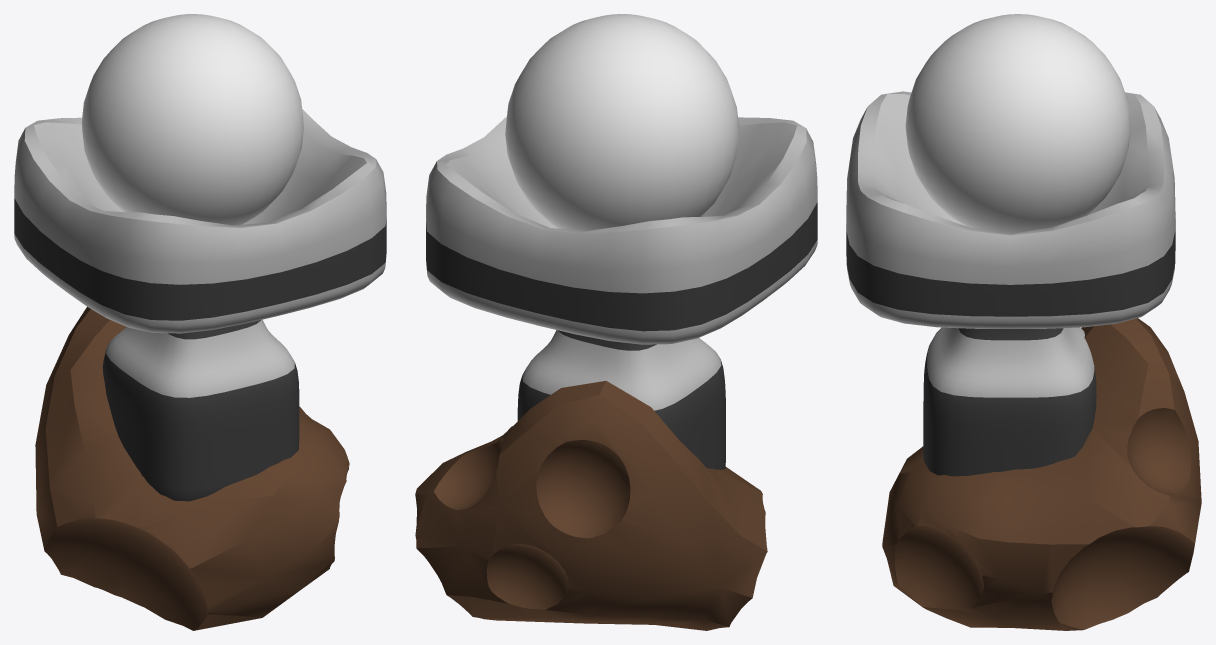
The model's file is defens_tower.fbx.
3 views of the same model, side by side, from view 1: azimuth 30°, elevation 25°; view 2: azimuth 150°, elevation 25°; view 3: azimuth 270°, elevation 25° (orthographic). The views are drawn at different scales.
Parts seen in each view (by area): view 1: Cube.019, rock.002, Sphere.016; view 2: Cube.019, rock.002, Sphere.016; view 3: Cube.019, rock.002, Sphere.016.
Part boxes in pixels (x1,y1,x2,y2): Cube.019: (14, 109, 386, 501); rock.002: (35, 306, 349, 630); Sphere.016: (81, 14, 303, 225); Cube.019: (426, 116, 817, 469); rock.002: (415, 381, 767, 630); Sphere.016: (505, 14, 738, 230); Cube.019: (846, 91, 1175, 476); rock.002: (882, 318, 1201, 630); Sphere.016: (905, 14, 1130, 233).
Size of the model in its own units: 259 by 503 by 279.
